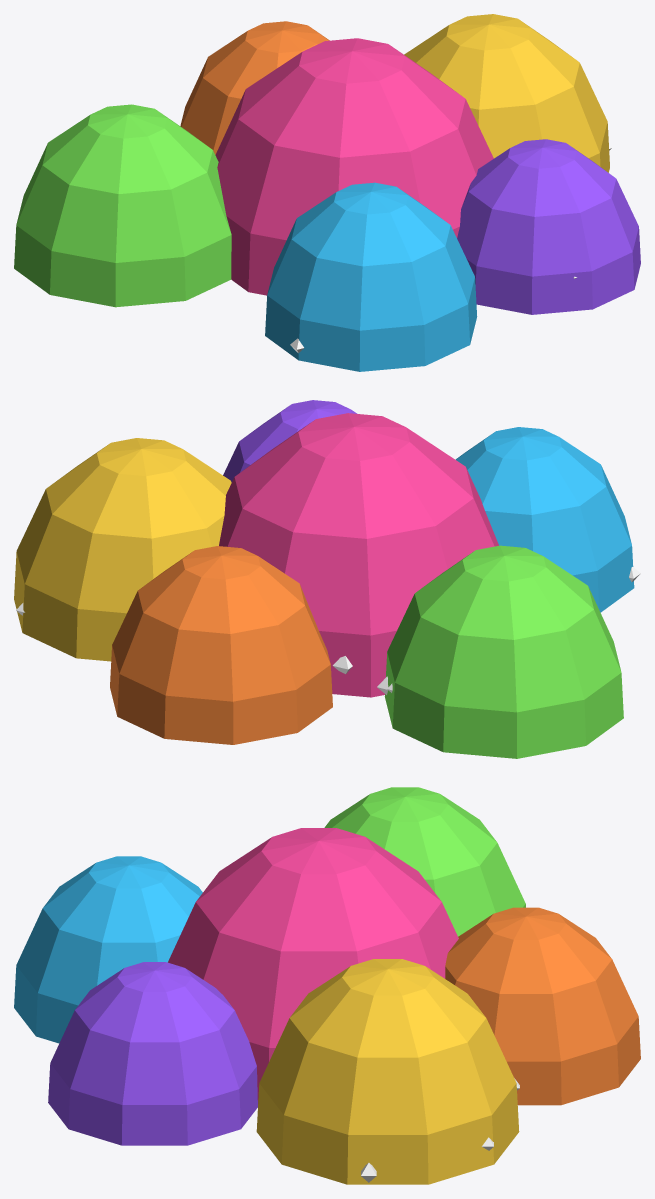
File: gumdrop_bush.fbx
3 views of the same model, one above another, from view 1: azimuth 30°, elevation 25°; view 2: azimuth 150°, elevation 25°; view 3: azimuth 270°, elevation 25° (orthographic). The views are drawn at different scales.
Parts seen in each view (by area): view 1: Drop1, Drop2, Drop4, Drop5, Drop3, Drop6; view 2: Drop1, Drop2, Drop6, Drop3, Drop4, Drop5, Sugar; view 3: Drop3, Drop1, Drop5, Drop6, Drop4, Drop2.
Part boxes in pixels (<box>): Drop1: <box>215,38,493,295</box>; Drop2: <box>14,104,231,307</box>; Drop4: <box>265,182,477,371</box>; Drop5: <box>457,139,640,314</box>; Drop3: <box>404,14,609,172</box>; Drop6: <box>180,21,329,154</box>; Drop1: <box>219,413,498,697</box>; Drop2: <box>384,545,623,758</box>; Drop6: <box>110,546,332,744</box>; Drop3: <box>14,438,231,661</box>; Drop4: <box>455,427,634,612</box>; Drop5: <box>223,400,357,482</box>; Sugar: <box>16,567,640,694</box>; Drop3: <box>256,959,519,1184</box>; Drop1: <box>168,828,458,1103</box>; Drop5: <box>48,962,257,1145</box>; Drop6: <box>445,907,640,1105</box>; Drop4: <box>14,856,202,1043</box>; Drop2: <box>324,787,525,936</box>.
Size of the model in its own units: 7.92 by 2.6 by 7.26.
